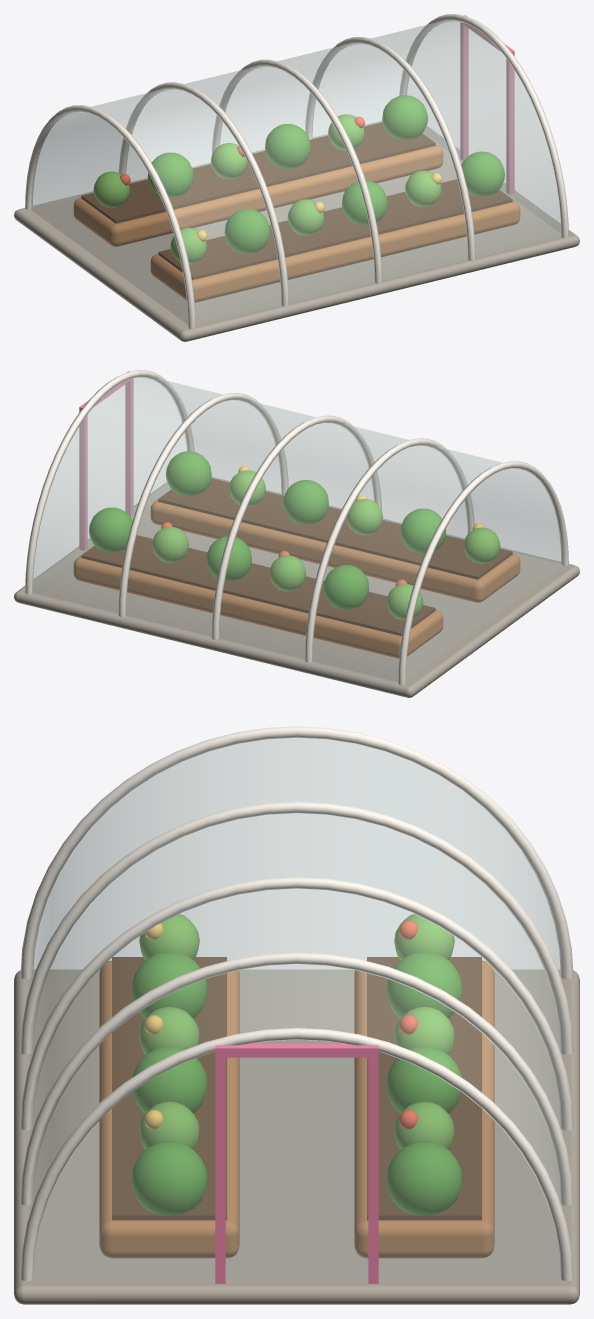
File: greenhouse-tunnel.glb
3 views of the same model, one above another, from view 1: azimuth 30°, elevation 25°; view 2: azimuth 150°, elevation 25°; view 3: azimuth 270°, elevation 25° (orthographic). The views are drawn at different scales.
Bounding box in the file's own units: 3 × 1.17 × 2.22.
